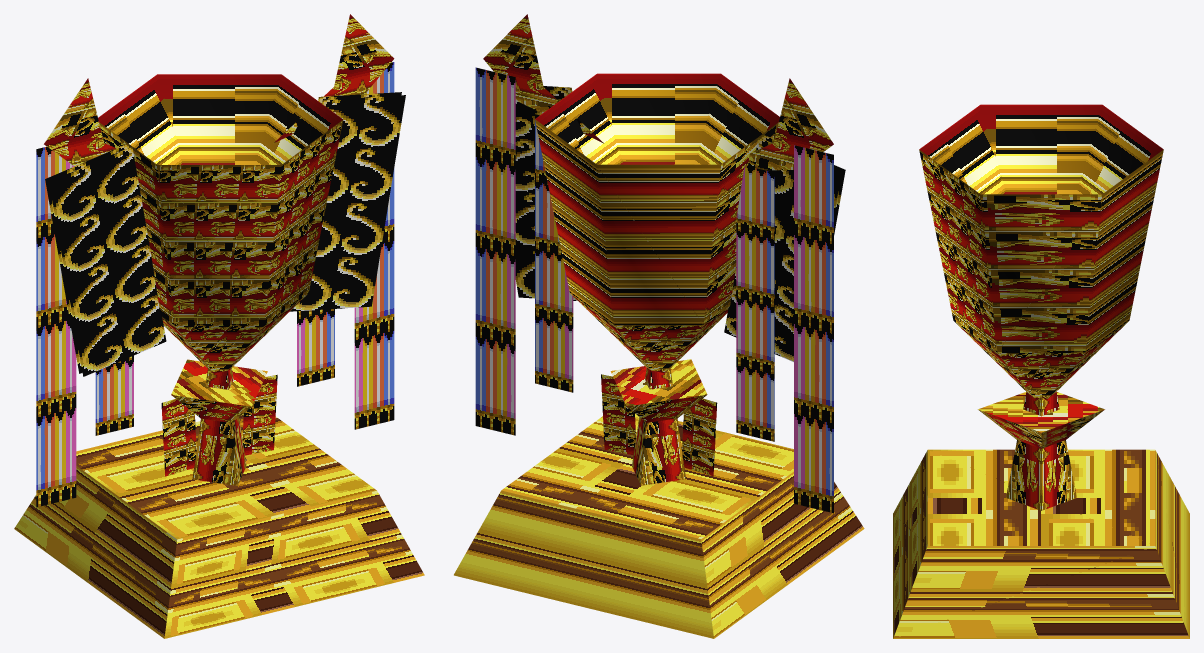
3 renders of one model, left to right at view 1: azimuth 30°, elevation 25°; view 2: azimuth 150°, elevation 25°; view 3: azimuth 270°, elevation 25°, orthographic.
Parts seen in each view (by area): view 1: 5374kg3_tr04; view 2: 5374kg3_tr04; view 3: 5374kg3_tr04.
Part boxes in pixels (left/top/right/bottom): 5374kg3_tr04: left=14, top=14, right=424, bottom=638; 5374kg3_tr04: left=454, top=14, right=864, bottom=638; 5374kg3_tr04: left=893, top=104, right=1189, bottom=638.
Bounding box in the file's own units: 0.938 × 1.27 × 0.6821.
4 materials, 4 textured.
